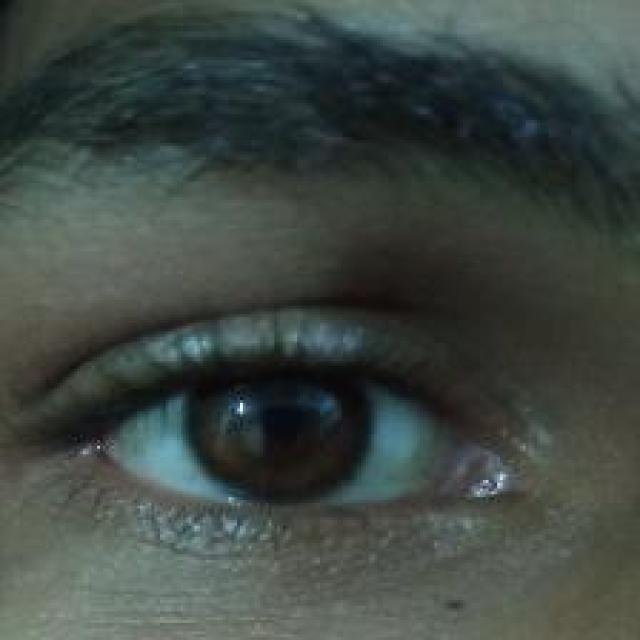Normal: (0, 199, 637, 632)
